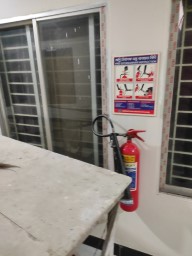fire_extinguisher: (86, 61, 159, 133), (97, 61, 159, 99)
